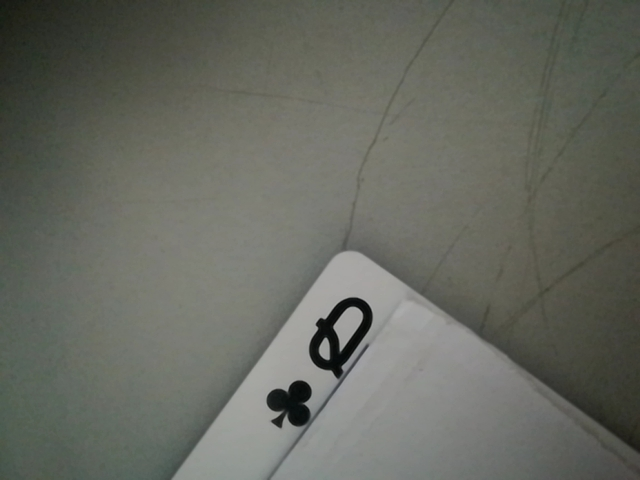mh q: (254, 285, 391, 445)
